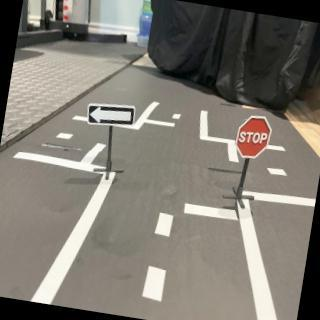sign_oneway_left: (86, 99, 139, 134)
sign_stop: (234, 115, 275, 162)
